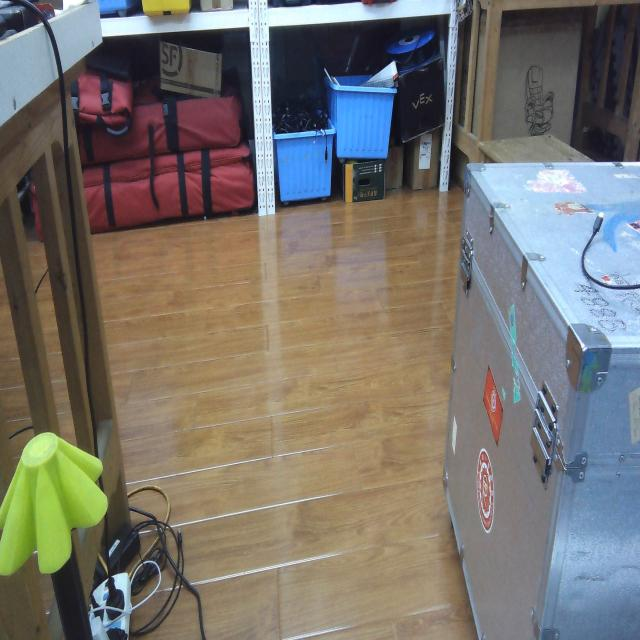Yellow-Stake-Head: (0, 432, 108, 576)
